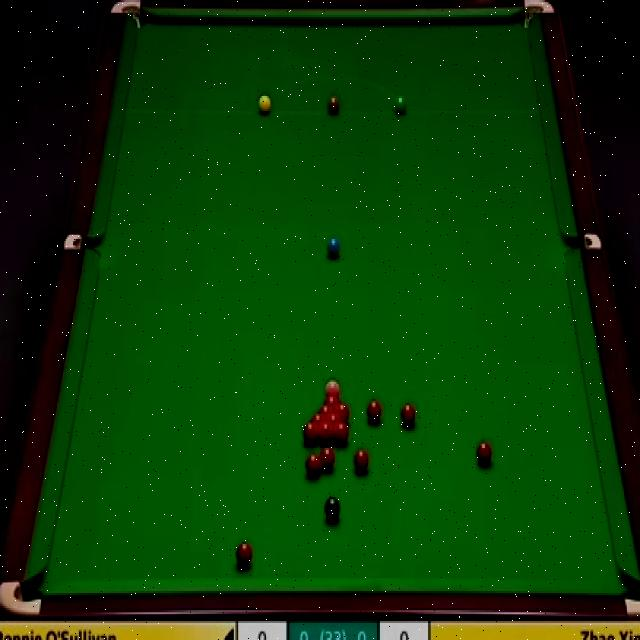black-ball: (324, 495, 342, 523)
blue-ball: (325, 234, 342, 260)
brown-ball: (326, 95, 341, 116)
green-ball: (395, 94, 409, 117)
pink-ball: (322, 376, 342, 396)
red-ball: (476, 440, 493, 468), (305, 454, 323, 480), (366, 399, 383, 426), (302, 420, 318, 447), (236, 542, 252, 568), (354, 447, 369, 474), (400, 404, 415, 429), (334, 421, 349, 446), (320, 448, 335, 472), (319, 422, 334, 445), (334, 404, 350, 422), (326, 413, 344, 425), (323, 395, 341, 404), (318, 403, 334, 413), (312, 412, 326, 423)
yellow-ball: (258, 93, 272, 116)
